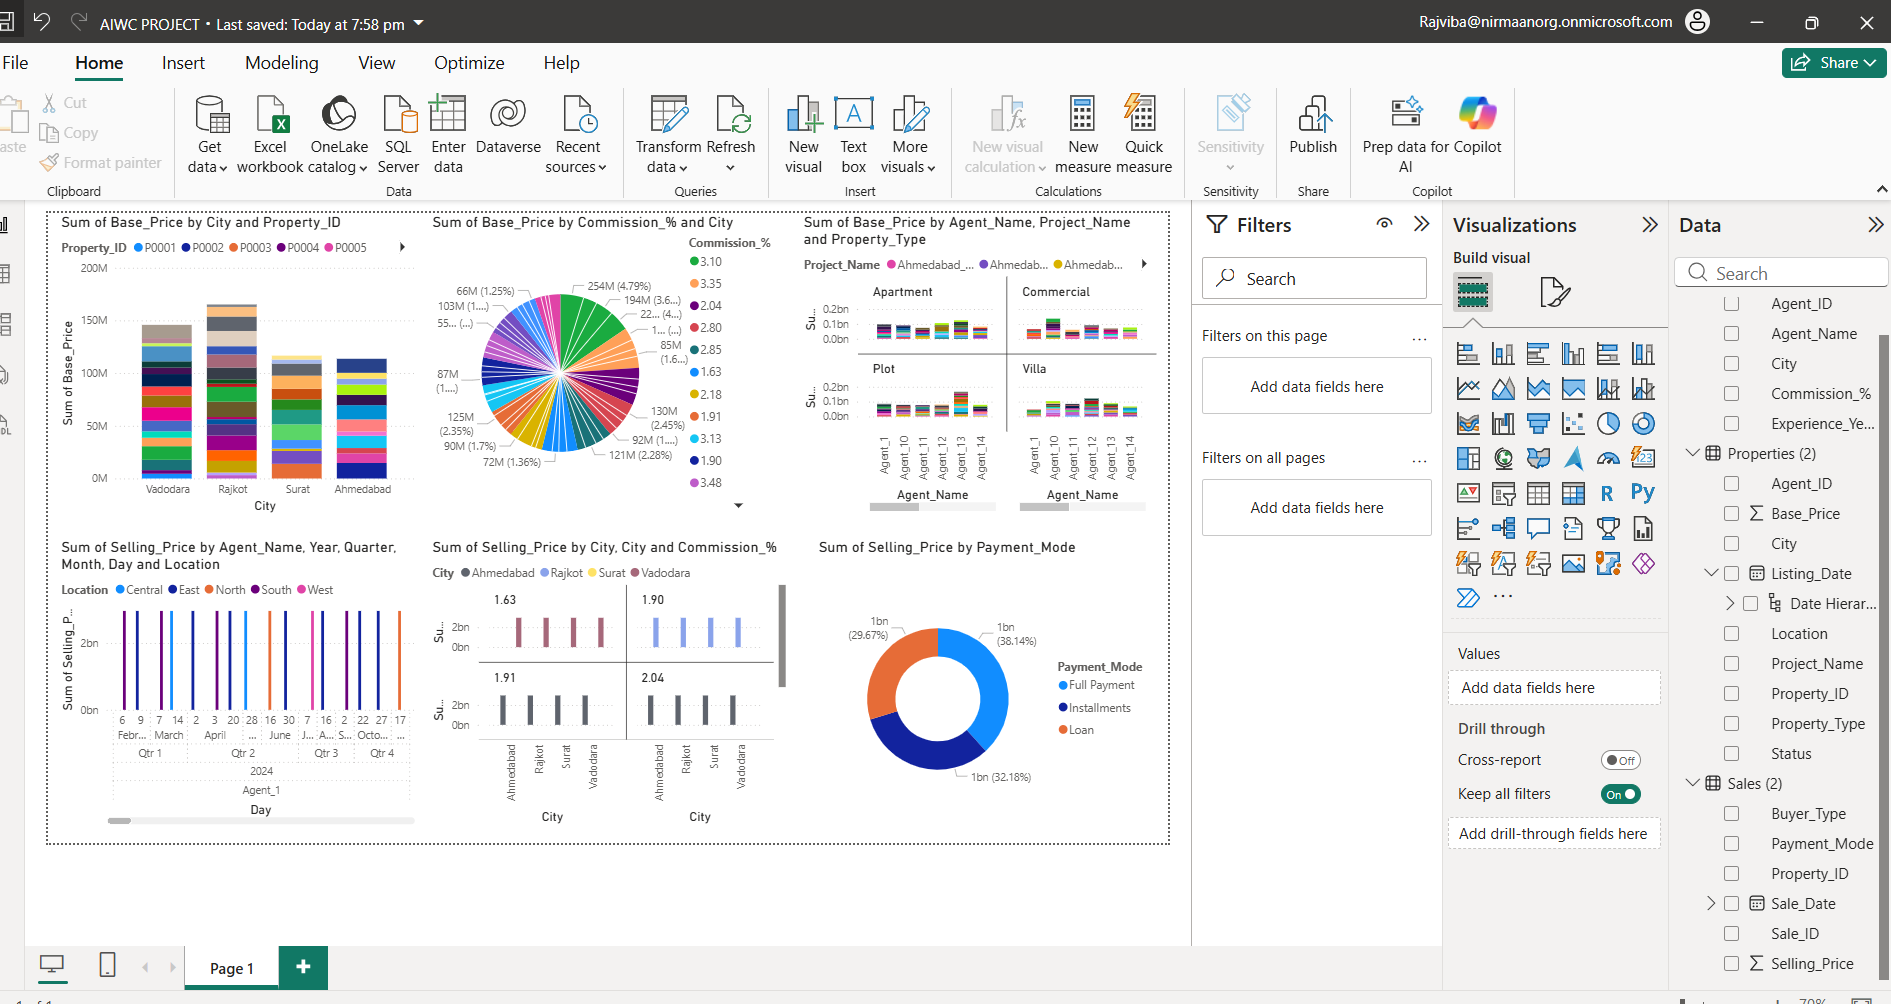

What the dashboard file says about the page in this screenshot:
{"tool":"powerbi","page":{"name":"Page 1","canvas":[1280,720],"ordinal":0},"visuals":[{"type":"columnChart","fields":{"Category":["Agents (2).City"],"Y":["Sum(Properties (2).Base_Price)"],"Series":["Properties (2).Property_ID"]},"box":[9.6,0,414.4,347.2],"z":0},{"type":"clusteredColumnChart","fields":{"Category":["Agents (2).Agent_Name","Properties (2).Listing_Date.Variation.Date Hierarchy.Year","Properties (2).Listing_Date.Variation.Date Hierarchy.Quarter","Properties (2).Listing_Date.Variation.Date Hierarchy.Month","Properties (2).Listing_Date.Variation.Date Hierarchy.Day"],"Series":["Properties (2).Location"],"Y":["Sum(Sales (2).Selling_Price)"]},"box":[9.6,371.9,414.4,332.1],"z":1000},{"type":"pieChart","fields":{"Category":["Agents (2).Commission_%"],"Y":["Sum(Properties (2).Base_Price)"],"Series":["Properties (2).City"]},"box":[434,0,414,347],"z":2000},{"type":"lineStackedColumnComboChart","fields":{"Category":["Agents (2).Agent_Name"],"Series":["Properties (2).Project_Name"],"Rows":["Properties (2).Property_Type"],"Y":["Sum(Properties (2).Base_Price)"]},"box":[858,0,414,347],"z":3000},{"type":"donutChart","fields":{"Y":["Sum(Sales (2).Selling_Price)"],"Category":["Sales (2).Payment_Mode"]},"box":[875,371,397,349],"z":4000},{"type":"clusteredColumnChart","fields":{"Category":["Properties (2).City"],"Series":["Agents (2).City"],"Y":["Sum(Sales (2).Selling_Price)"],"Rows":["Agents (2).Commission_%"]},"box":[434.3,398.6,402.9,305.7],"z":4001},{"type":"textbox","box":[444.3,317.1,404.3,85.7],"z":4002}]}

Visuals, with their boxes on the page's 1280x720 design canvas (x1, y1, x2, y2). These are canvas units, not pixel positions in the 1891x1004 screenshot, which may show the page scaled, cropped or inside an application window:
columnChart - Agents (2).City x Sum(Properties (2).Base_Price): <box>10,0,424,347</box>
clusteredColumnChart - Agents (2).Agent_Name x Properties (2).Listing_Date.Variation.Date Hierarchy.Year: <box>10,372,424,704</box>
pieChart - Agents (2).Commission_% x Sum(Properties (2).Base_Price): <box>434,0,848,347</box>
lineStackedColumnComboChart - Agents (2).Agent_Name x Properties (2).Project_Name: <box>858,0,1272,347</box>
donutChart - Sum(Sales (2).Selling_Price) x Sales (2).Payment_Mode: <box>875,371,1272,720</box>
clusteredColumnChart - Properties (2).City x Agents (2).City: <box>434,399,837,704</box>
textbox: <box>444,317,849,403</box>
